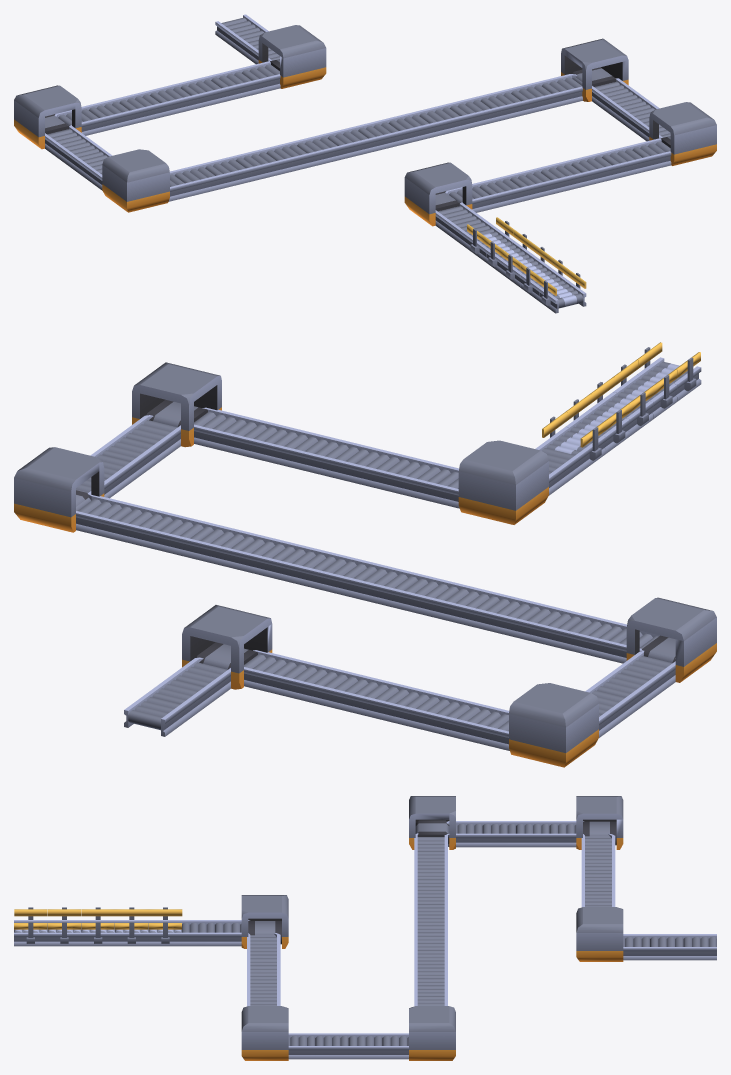
File: conveyer_belt.fbx
The picture shows the model from 3 angles, top to bottom: view 1: azimuth 30°, elevation 25°; view 2: azimuth 150°, elevation 25°; view 3: azimuth 270°, elevation 25°; orthographic projection. The views are drawn at different scales.
Parts seen in each view (by area): view 1: Group.007; view 2: Group.007; view 3: Group.007.
Part boxes in pixels (x1=…): Group.007: x1=14, y1=14, x2=716, y2=313; Group.007: x1=14, y1=342, x2=716, y2=767; Group.007: x1=14, y1=796, x2=716, y2=1060.
Bounding box in the file's own units: 1640 × 120 × 2100.
4 materials, 4 textured.
